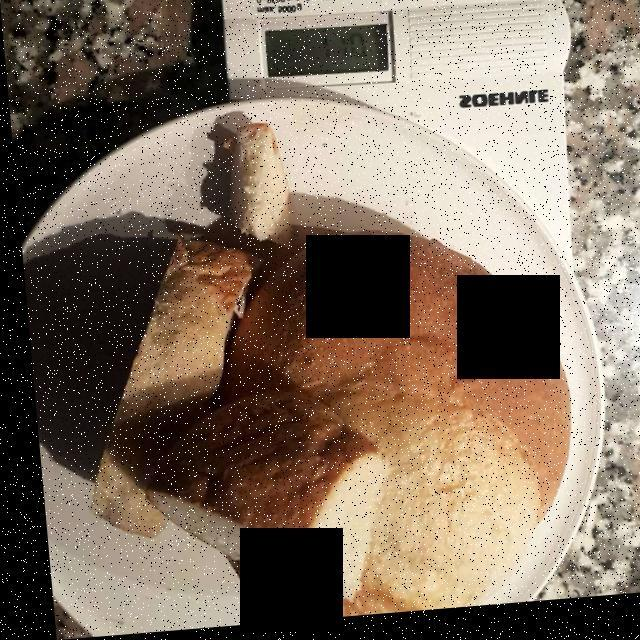bread: (70, 120, 565, 624)
